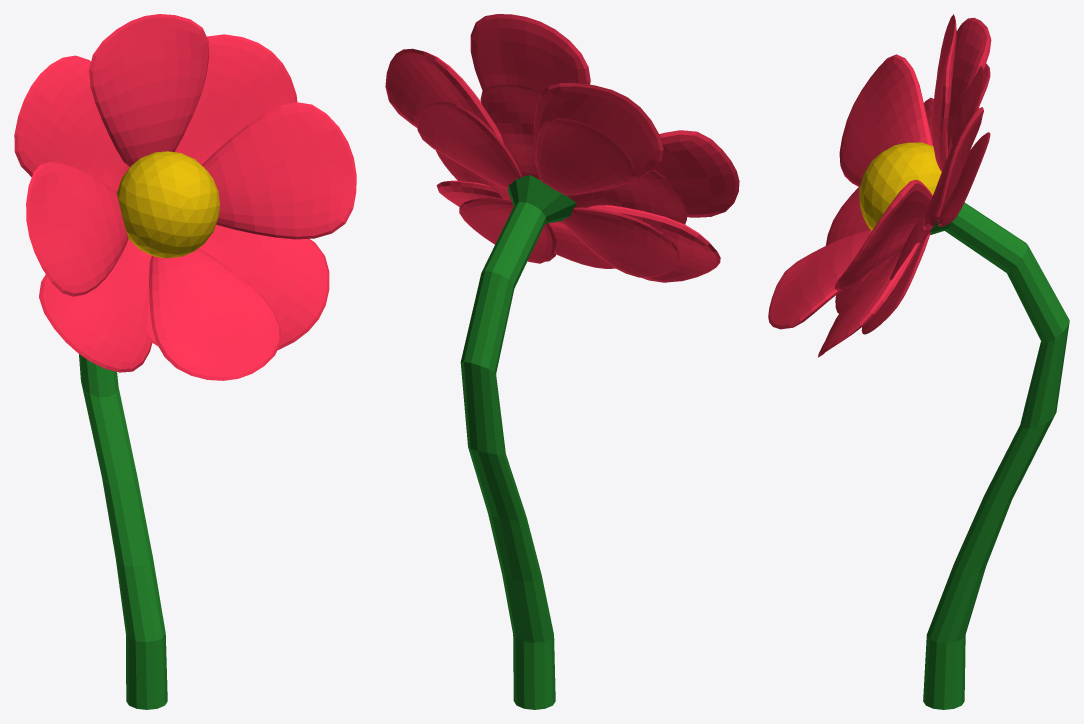
The model's file is Flower.fbx.
3 views of the same model, side by side, from view 1: azimuth 30°, elevation 25°; view 2: azimuth 150°, elevation 25°; view 3: azimuth 270°, elevation 25° (orthographic).
Visible parts, largest first — view 1: Flower; view 2: Flower; view 3: Flower.
Part boxes in pixels (x1,y1,x2,y2): Flower: (14,14,356,709); Flower: (385,14,739,709); Flower: (768,14,1069,709).
Bounding box in the file's own units: 361 × 723 × 290.
